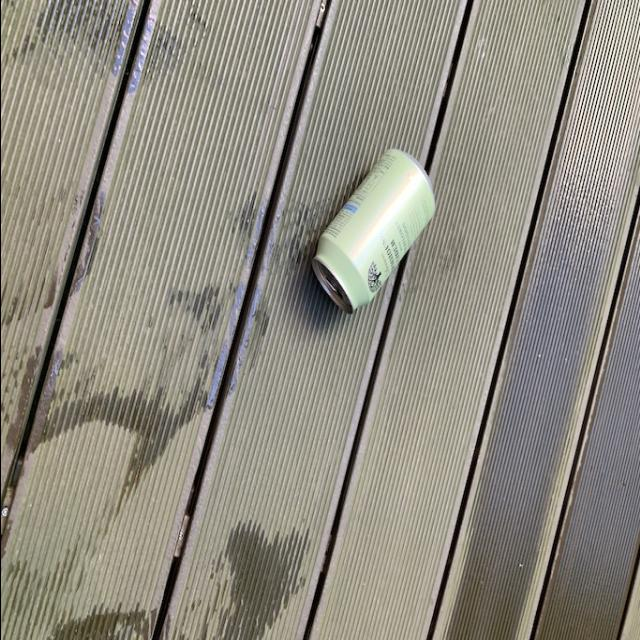Aluminum Can: (306, 149, 436, 320)
